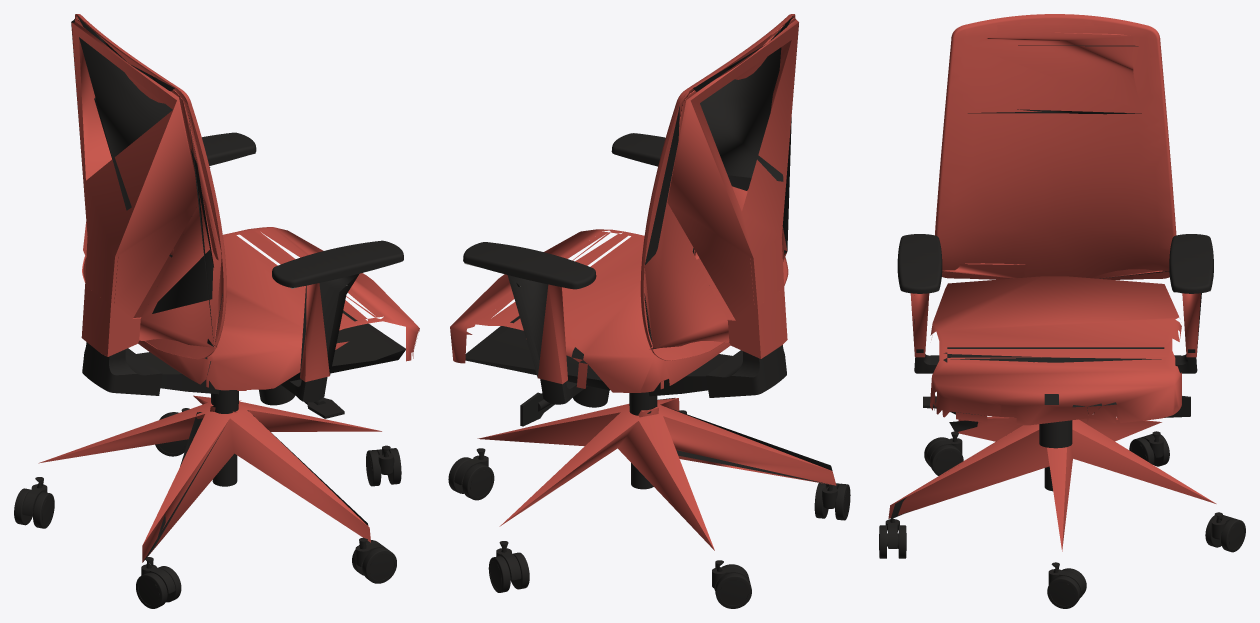
The model's file is yon.glb.
3 views of the same model, side by side, from view 1: azimuth 30°, elevation 25°; view 2: azimuth 150°, elevation 25°; view 3: azimuth 270°, elevation 25° (orthographic). The views are drawn at different scales.
Visible parts, largest first — view 1: ID1518, ID695, ID613, ID26, ID252, ID1474, ID1473, ID243, ID622, ID1507, ID5; view 2: ID1518, ID613, ID695, ID26, ID252, ID1474, ID243, ID1473, ID622, ID1507, ID5; view 3: ID1474, ID695, ID613, ID1518, ID26, ID252, ID243, ID622.
Part boxes in pixels (left/top/right/bottom): ID1518: left=71, top=16, right=223, bottom=356; ID695: left=138, top=227, right=419, bottom=390; ID613: left=38, top=395, right=381, bottom=562; ID26: left=202, top=132, right=403, bottom=402; ID252: left=14, top=408, right=401, bottom=608; ID1474: left=75, top=14, right=226, bottom=359; ID1473: left=82, top=342, right=162, bottom=395; ID243: left=205, top=310, right=405, bottom=382; ID622: left=136, top=352, right=344, bottom=418; ID1507: left=85, top=237, right=117, bottom=304; ID5: left=211, top=390, right=238, bottom=486; ID1518: left=644, top=15, right=798, bottom=358; ID613: left=477, top=398, right=836, bottom=550; ID695: left=450, top=229, right=730, bottom=392; ID26: left=463, top=133, right=665, bottom=404; ID252: left=448, top=410, right=850, bottom=608; ID1474: left=640, top=14, right=795, bottom=360; ID243: left=465, top=316, right=609, bottom=390; ID1473: left=706, top=345, right=786, bottom=397; ID622: left=520, top=354, right=732, bottom=426; ID1507: left=750, top=238, right=784, bottom=306; ID5: left=629, top=392, right=657, bottom=489; ID1474: left=935, top=14, right=1176, bottom=279; ID695: left=930, top=276, right=1181, bottom=425; ID613: left=888, top=416, right=1216, bottom=551; ID1518: left=942, top=25, right=1168, bottom=278; ID26: left=897, top=234, right=1213, bottom=373; ID252: left=879, top=431, right=1245, bottom=608; ID243: left=943, top=347, right=1164, bottom=415; ID622: left=923, top=396, right=1190, bottom=448.
Size of the model in its own units: 0.7074 by 1.01 by 0.7175.
